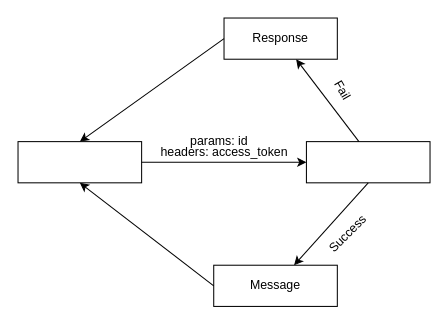
The diagram is 448 pixels wide and 324 high, and some of its shapes have lost their labels. The shapes that lost their labels are listed below. From the top down, each one's centre as x and y in pixels, then its label:
point 79,162: Admin
point 367,162: Server
